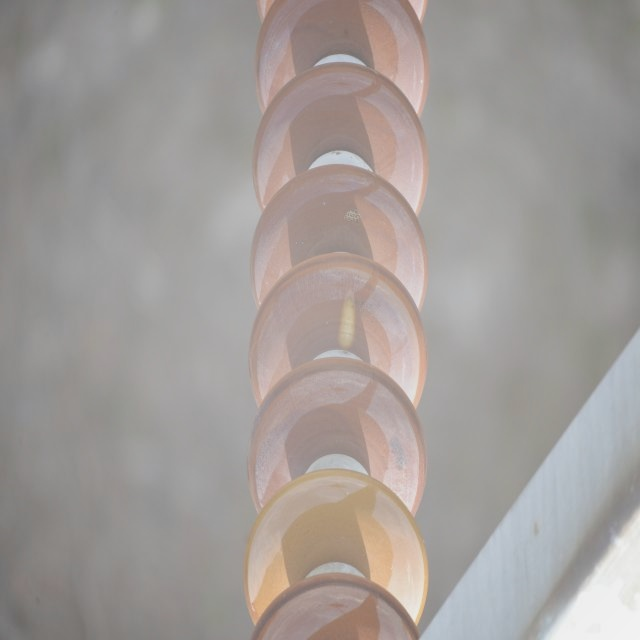insulator: (244, 0, 430, 640)
